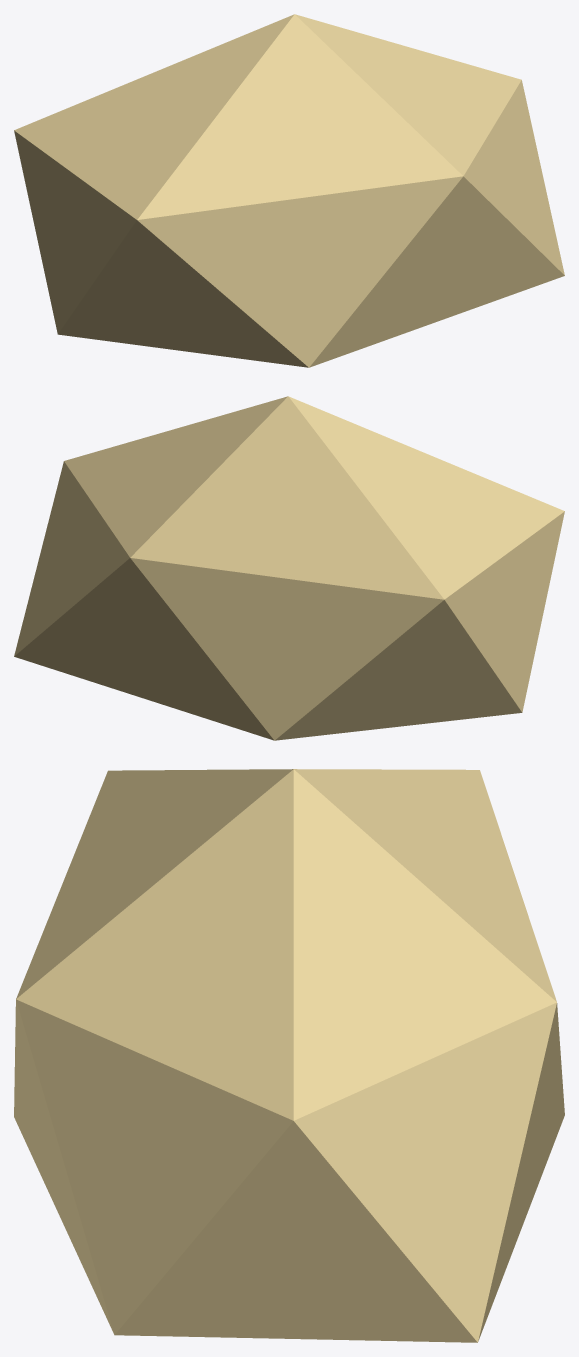
Rendered from item_030_flax_seed_s.glb.
The picture shows the model from 3 angles, top to bottom: view 1: azimuth 30°, elevation 25°; view 2: azimuth 150°, elevation 25°; view 3: azimuth 270°, elevation 25°; orthographic projection. The views are drawn at different scales.
Parts seen in each view (by area): view 1: item_030_flax_seed_s; view 2: item_030_flax_seed_s; view 3: item_030_flax_seed_s.
Part boxes in pixels (x1,y1,x2,y2): item_030_flax_seed_s: (14,14,564,367); item_030_flax_seed_s: (14,396,564,740); item_030_flax_seed_s: (14,769,564,1342).
Bounding box in the file's own units: 0.2966 × 0.2062 × 0.201.
